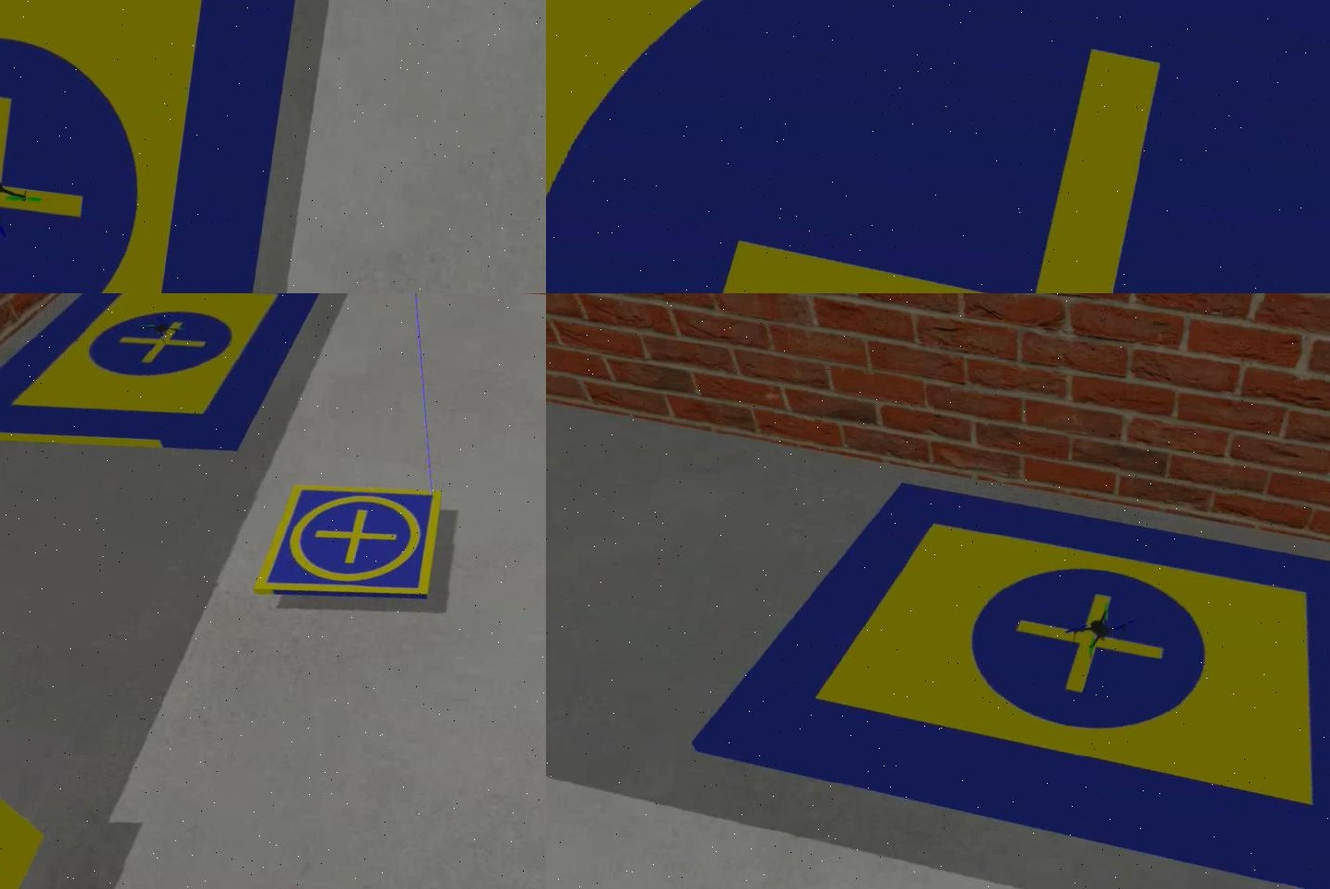large_base: (675, 461, 1328, 889), (545, 1, 1328, 293), (0, 1, 323, 293), (0, 293, 326, 475)
small_base: (251, 471, 446, 616)
